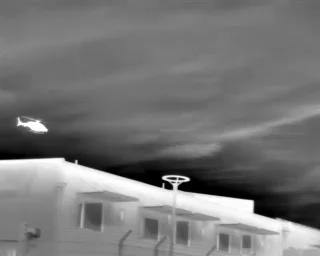HELICOPTER: (10, 110, 56, 140)
